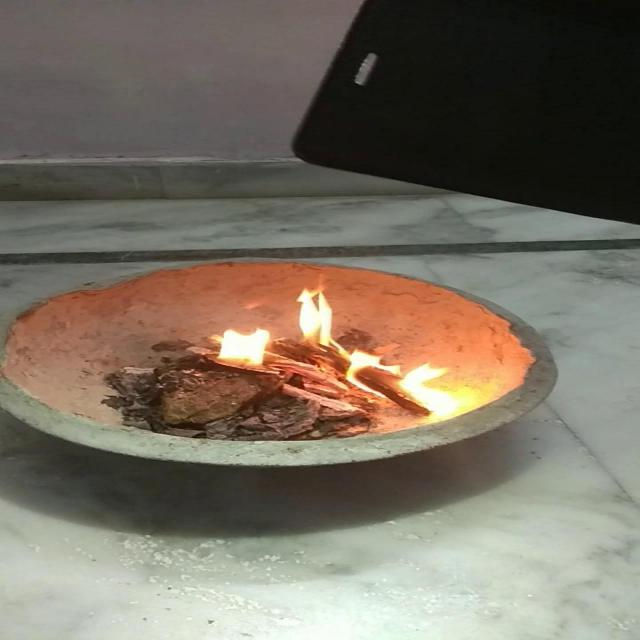fire: (217, 276, 440, 414)
